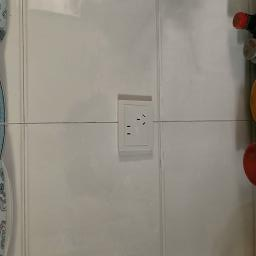outlet: (112, 90, 156, 153)
